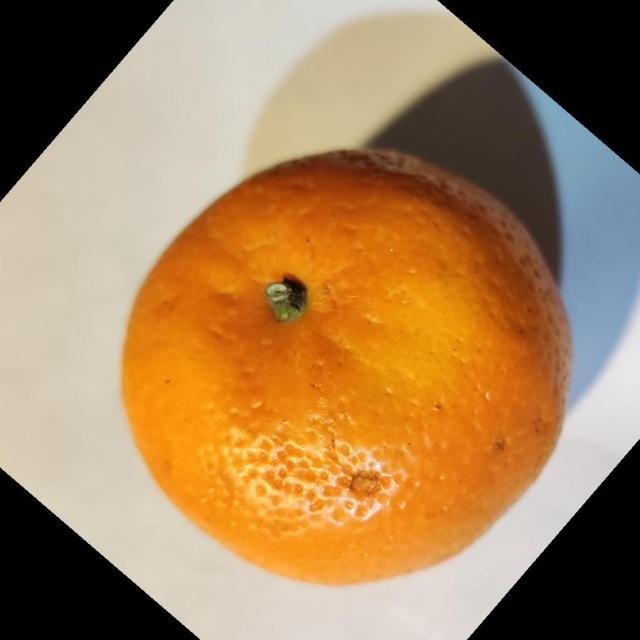agrume: (119, 146, 572, 586)
